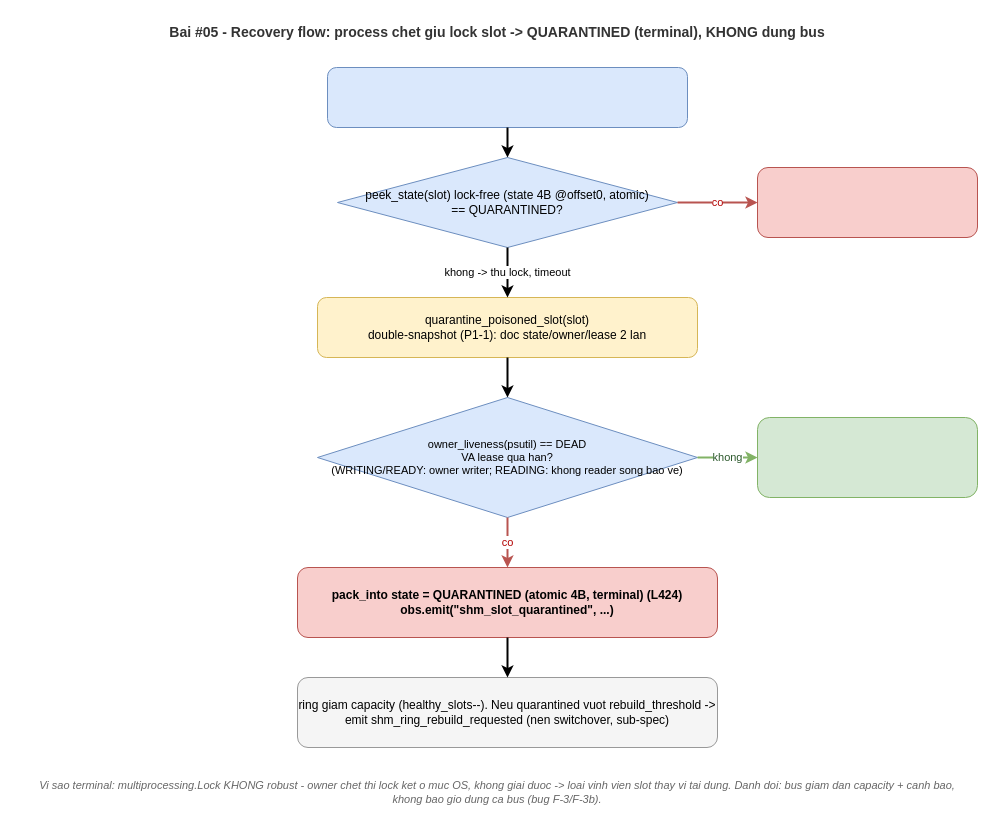
This 995x834 diagram has some shape labels left out. The box of each missing label's shape, as (x1, y1, x2, y2) in pixels:
ALIVE / UNKNOWN / torn snapshot -> KHONG quarantine (giu nguyen): (756, 416, 978, 498)
bo qua slot, KHONG dung lock (terminal - co the poison): (756, 166, 978, 238)
writer.scan slot / reader.pin gap lock (acquire timeout LOCK_ACQUIRE_TIMEOUT_S): (326, 66, 688, 128)
